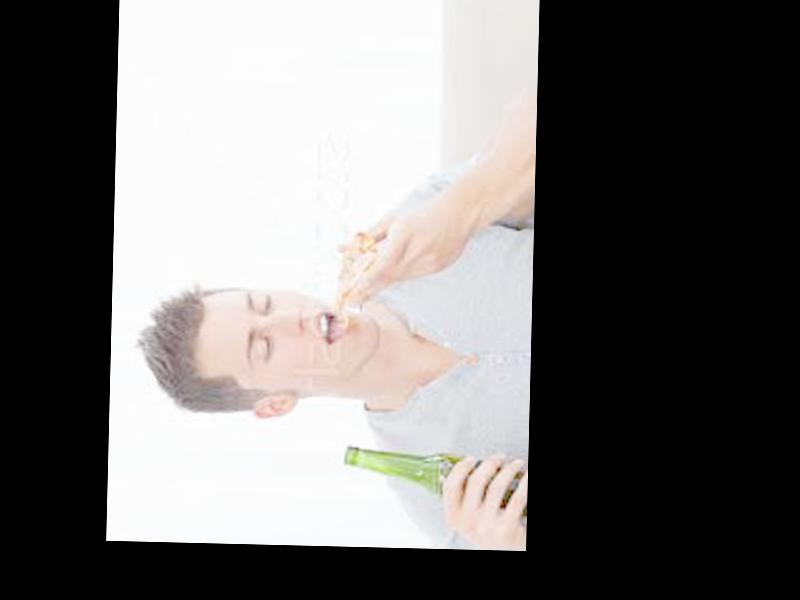Beer: (343, 445, 528, 518)
